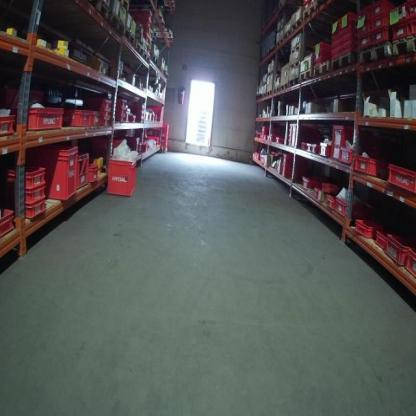pallets: (258, 41, 416, 97), (74, 0, 152, 68)
